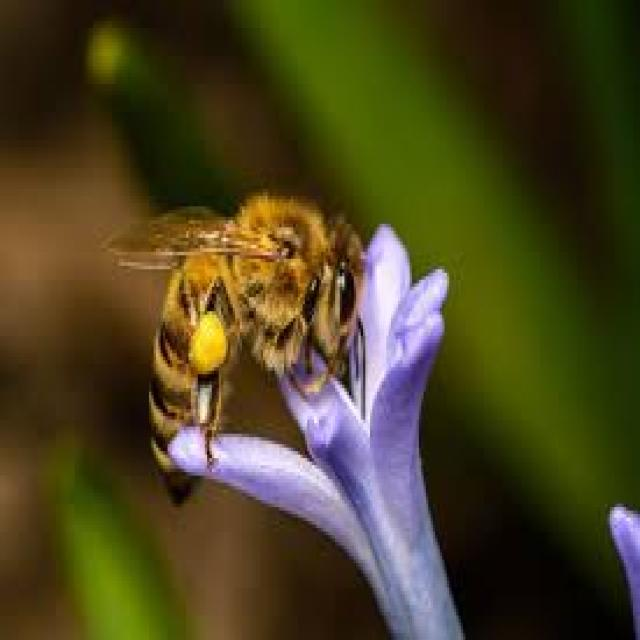Bees: (105, 193, 369, 500)
